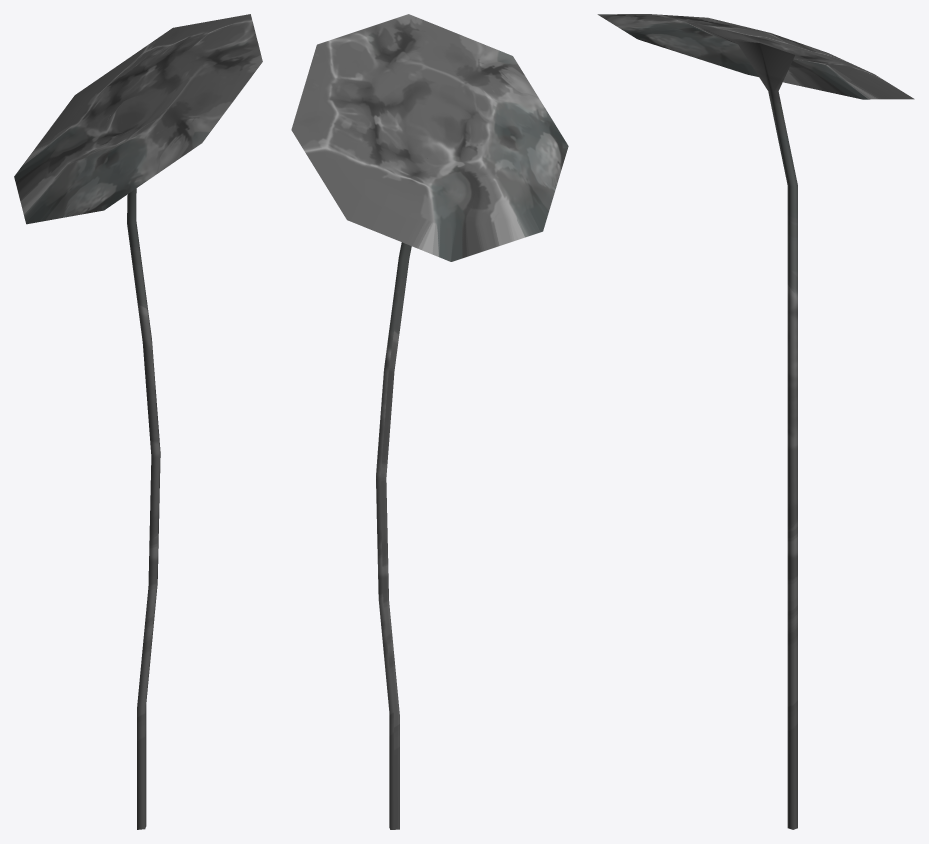
Rendered from FlorTerrain 2.fbx.
The picture shows the model from 3 angles, left to right: view 1: azimuth 30°, elevation 25°; view 2: azimuth 150°, elevation 25°; view 3: azimuth 270°, elevation 25°; orthographic projection. The views are drawn at different scales.
Visible parts, largest first — view 1: Petalos_LP; view 2: Petalos_LP; view 3: Petalos_LP.
Part boxes in pixels (box(x1,y1,x2,y2)): Petalos_LP: box(14, 14, 262, 829); Petalos_LP: box(291, 14, 568, 829); Petalos_LP: box(597, 14, 914, 829).
Size of the model in its own units: 56.25 by 186 by 63.66.
